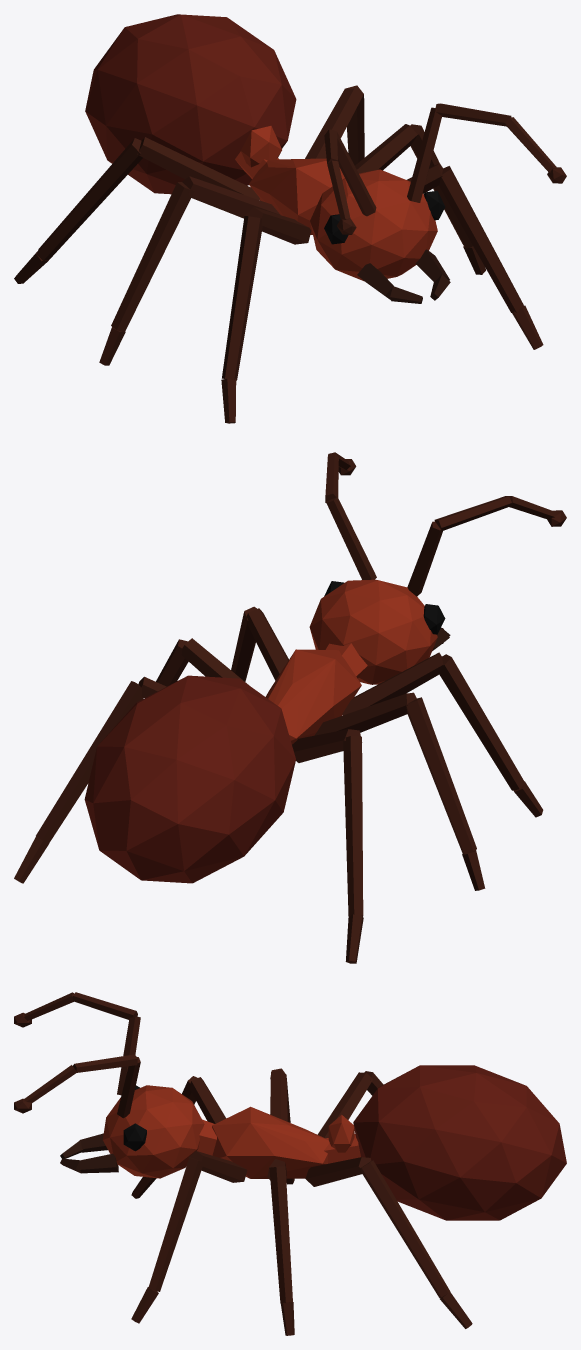
The model's file is ant_worker.glb.
3 views of the same model, one above another, from view 1: azimuth 30°, elevation 25°; view 2: azimuth 150°, elevation 25°; view 3: azimuth 270°, elevation 25° (orthographic). The views are drawn at different scales.
Parts seen in each view (by area): view 1: ant_worker; view 2: ant_worker; view 3: ant_worker.
Boxes of the visible parts, x1,y1,x2,y2 form: ant_worker: [14, 14, 566, 423]; ant_worker: [14, 452, 566, 963]; ant_worker: [14, 992, 566, 1335].
Size of the model in its own units: 1.04 by 0.7188 by 1.55.
1 material, 1 textured.
